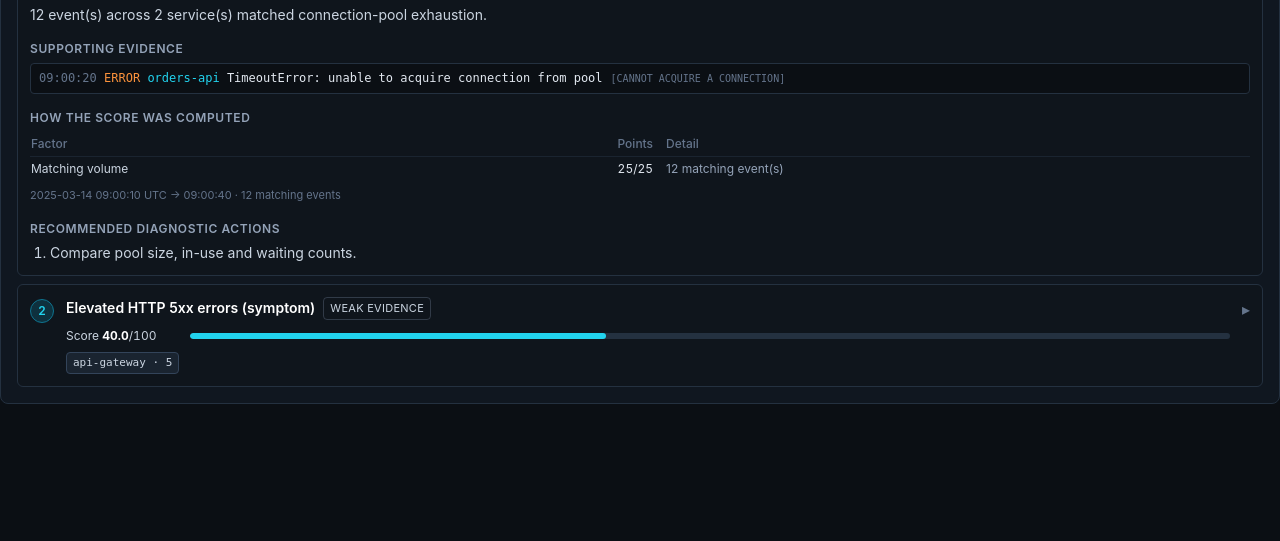
Test case: HypothesisList › toggles lower-ranked hypotheses
Click the button "Elevated HTTP 5xx". click: {"x": 640, "y": 336}
box: x1=18 y1=285 x2=1262 y2=386
(page scrolled)
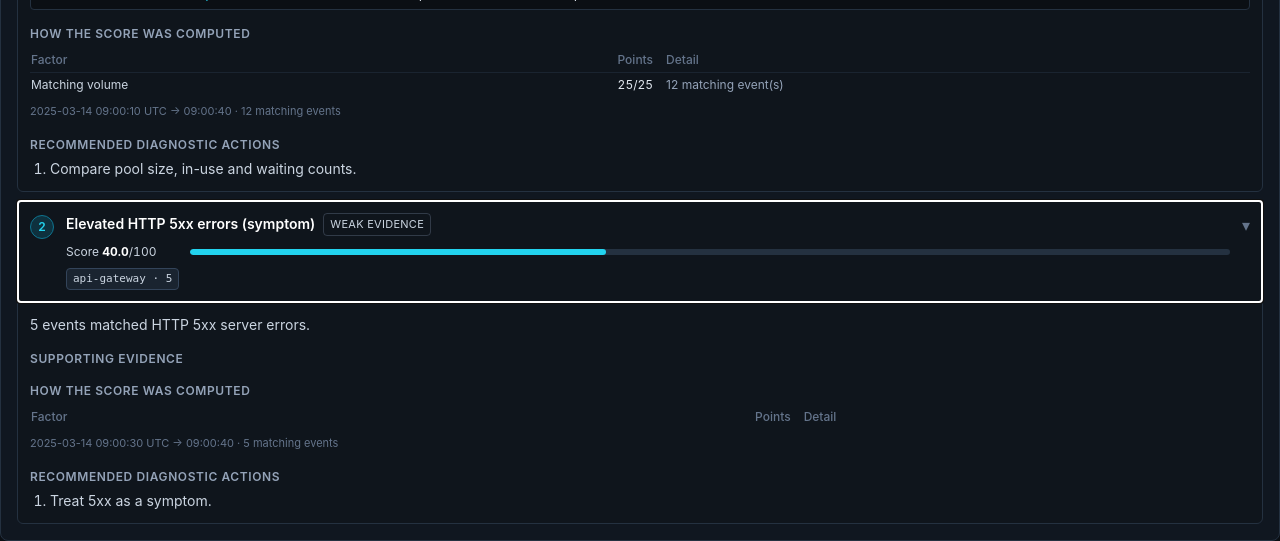
Now the button "Elevated HTTP 5xx" is expanded, box x1=18 y1=201 x2=1262 y2=302
Now the list item "Treat 5xx as a symptom." is shown, box x1=50 y1=492 x2=212 y2=509
